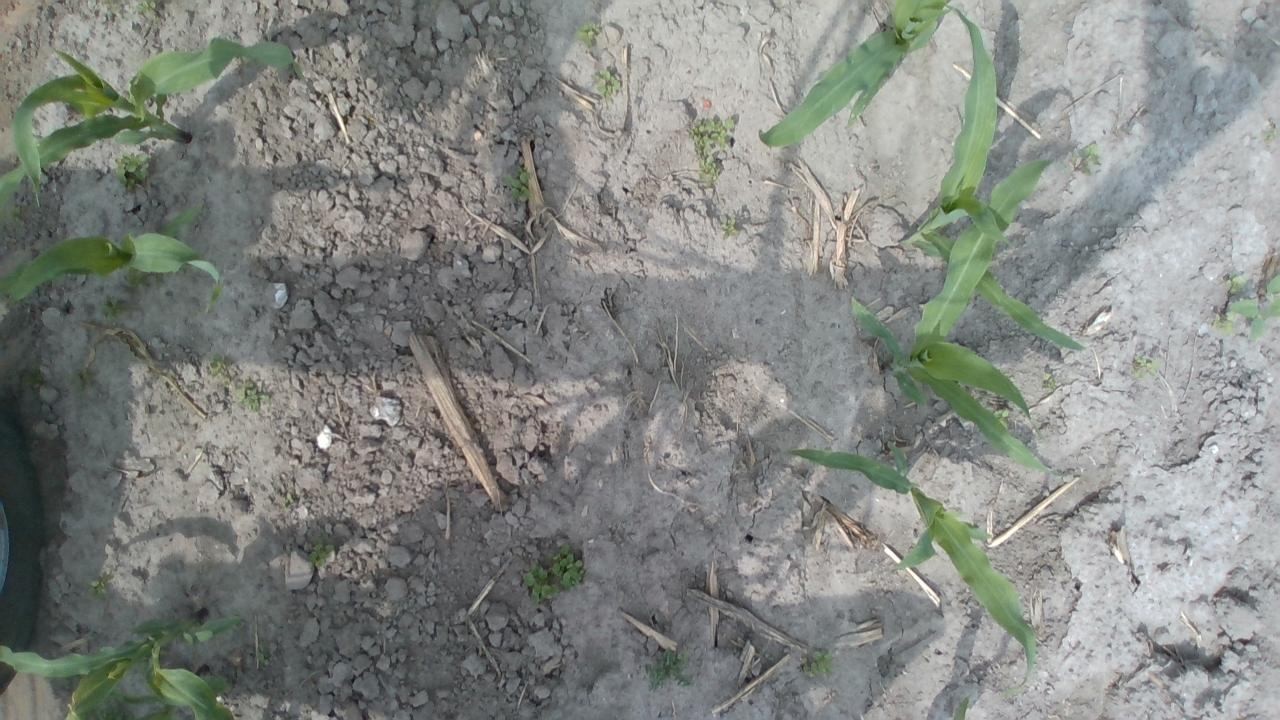Maize: (896, 0, 1088, 353), (788, 435, 1036, 700), (849, 160, 1056, 476), (0, 35, 310, 211), (756, 0, 956, 157), (0, 608, 245, 720), (0, 201, 223, 310), (110, 665, 233, 720), (951, 694, 972, 720)
Weeds: (1226, 274, 1280, 342), (687, 114, 737, 158), (646, 647, 691, 689), (522, 563, 560, 608), (550, 544, 586, 590), (115, 151, 154, 190), (501, 166, 534, 202), (238, 378, 272, 411), (1071, 142, 1102, 176), (68, 364, 96, 398), (801, 646, 832, 674), (594, 68, 622, 98), (306, 541, 334, 569), (574, 19, 602, 45), (99, 294, 127, 320), (95, 703, 134, 720), (1135, 354, 1162, 378), (699, 157, 720, 185), (125, 267, 150, 289), (87, 578, 110, 601), (255, 638, 273, 665), (207, 353, 227, 377), (720, 218, 740, 240), (1214, 312, 1232, 336), (6, 202, 24, 224), (136, 0, 162, 15), (992, 407, 1008, 431), (1040, 371, 1056, 390), (1263, 128, 1280, 144), (284, 495, 295, 509)
